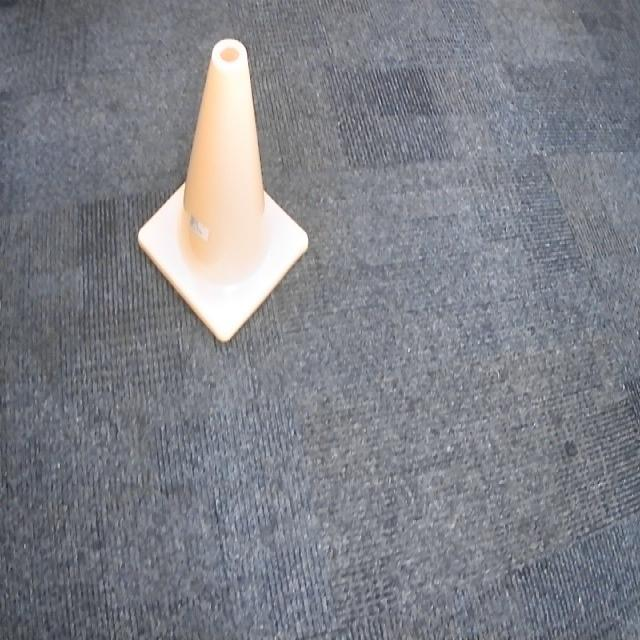cone: (136, 38, 312, 346)
